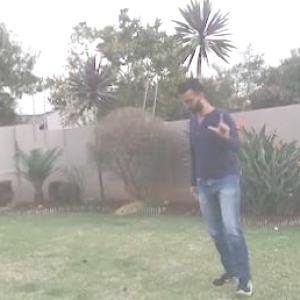land_hand: (204, 105, 240, 142)
